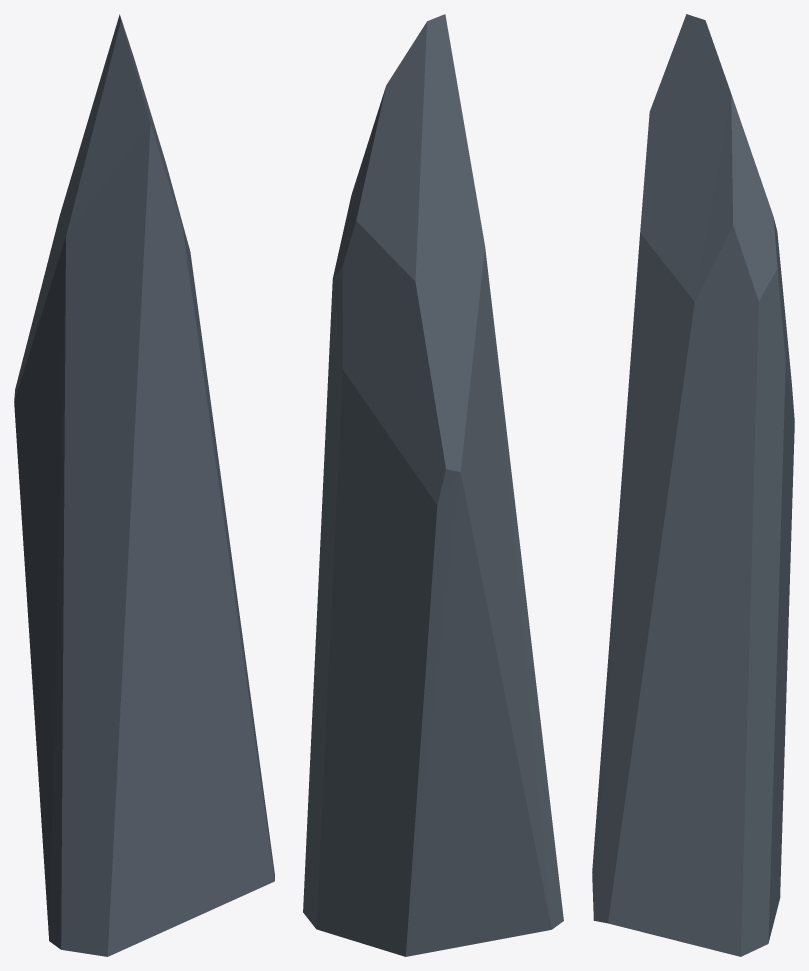
The model's file is Rock_Sharp_m_06.fbx.
The picture shows the model from 3 angles, left to right: view 1: azimuth 30°, elevation 25°; view 2: azimuth 150°, elevation 25°; view 3: azimuth 270°, elevation 25°; orthographic projection. The views are drawn at different scales.
Parts seen in each view (by area): view 1: Rock_Sharp_m_06; view 2: Rock_Sharp_m_06; view 3: Rock_Sharp_m_06.
Boxes of the visible parts, x1,y1,x2,y2 form: Rock_Sharp_m_06: [14, 14, 274, 956]; Rock_Sharp_m_06: [303, 14, 563, 956]; Rock_Sharp_m_06: [592, 14, 794, 956].
Size of the model in its own units: 0.5064 by 2.12 by 0.438.
